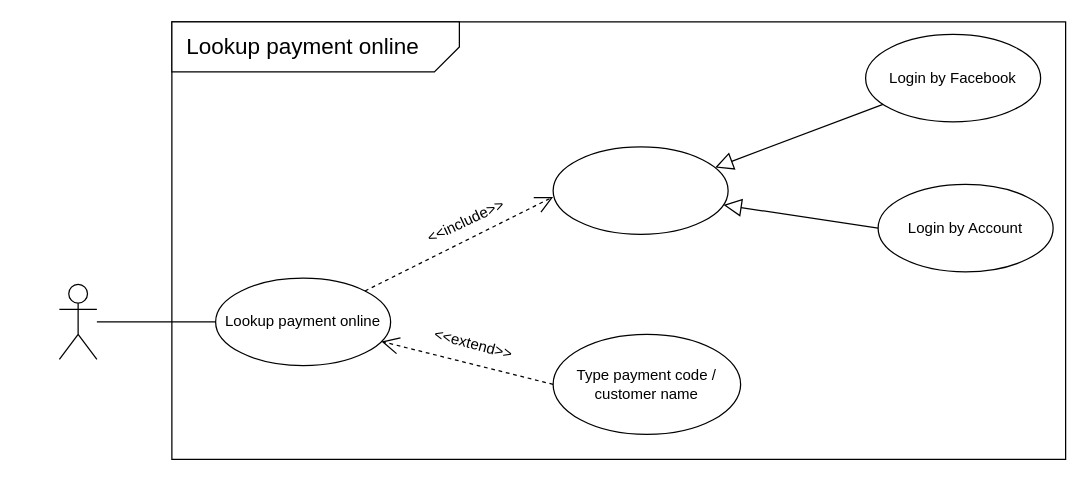
Image size: 1088x481. Some labels were removed from this diagram. The shapes that lost their labels are listed below. From the top down, each one's centre as x and y in pixels, then its label:
At [640,190]: "Login".
At [77,321]: "Employee/Admin".
